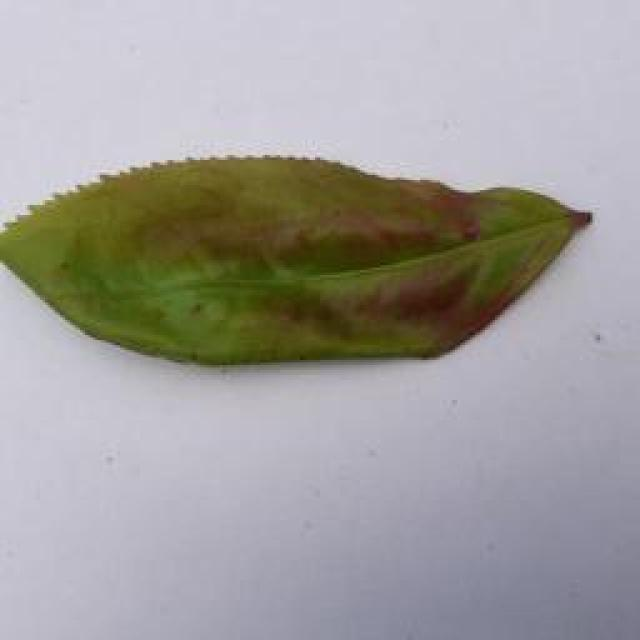Red Leaf Spot: (1, 135, 610, 379)
